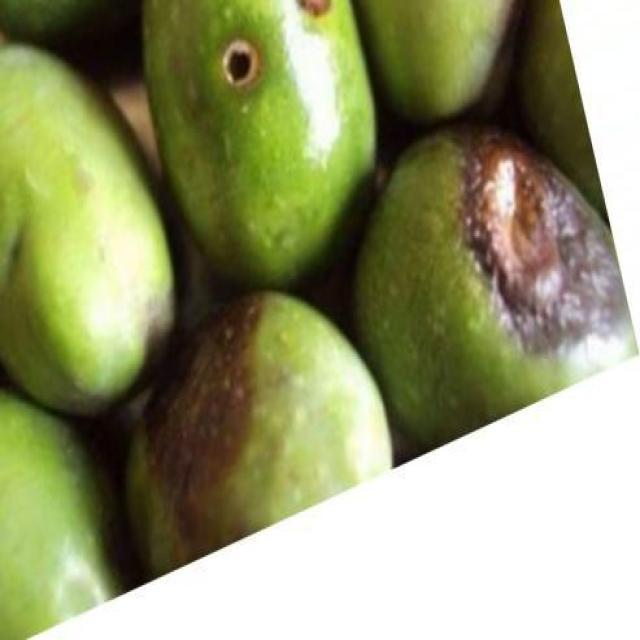Anthracnose: (357, 125, 635, 447), (128, 292, 390, 576), (144, 0, 374, 256)
